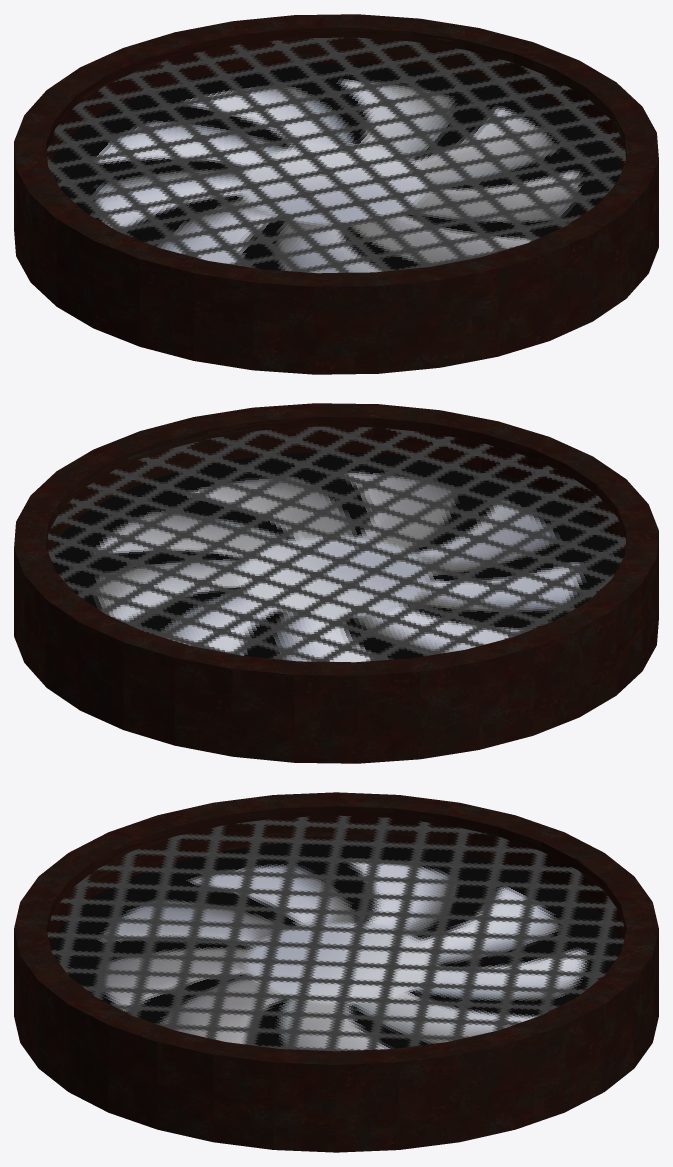
Rendered from fan.glb.
3 renders of one model, top to bottom at view 1: azimuth 30°, elevation 25°; view 2: azimuth 150°, elevation 25°; view 3: azimuth 270°, elevation 25°, orthographic.
Visible parts, largest first — view 1: Case, Fan, Grate; view 2: Case, Fan, Grate; view 3: Case, Fan, Grate.
Boxes of the visible parts, x1,y1,x2,y2 form: Case: [14, 14, 658, 374]; Fan: [50, 63, 623, 273]; Grate: [47, 37, 625, 272]; Case: [14, 403, 658, 763]; Fan: [51, 452, 622, 662]; Grate: [47, 426, 625, 661]; Case: [14, 792, 658, 1152]; Fan: [50, 841, 622, 1050]; Grate: [47, 815, 623, 1051].
Bounding box in the file's own units: 2 × 0.3 × 2.
3 materials, 3 textured.
